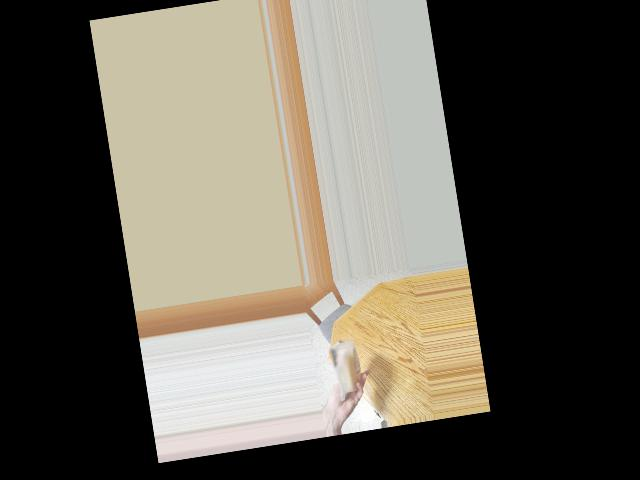cheese: (323, 339, 370, 396)
